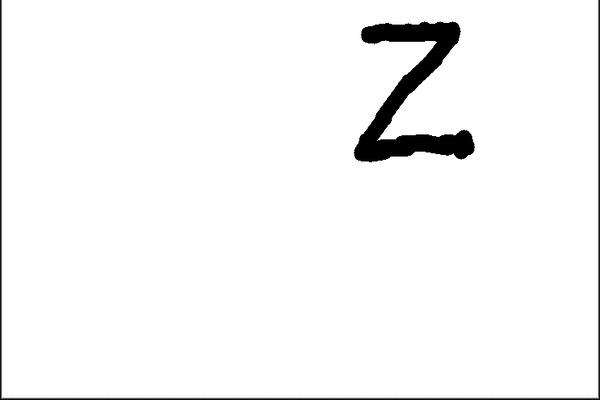Z: (345, 10, 479, 176)
